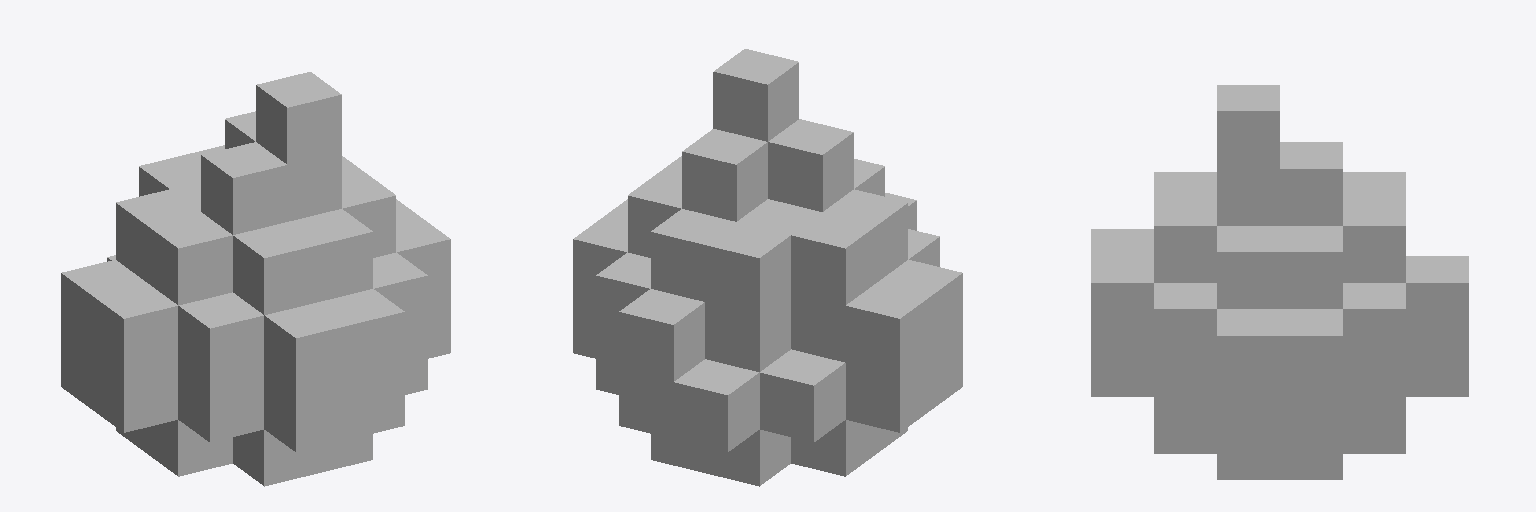
Rendered from TomatoFixed.obj.
The picture shows the model from 3 angles: view 1: azimuth 30°, elevation 25°; view 2: azimuth 150°, elevation 25°; view 3: azimuth 270°, elevation 25°; orthographic projection.
Parts seen in each view (by area): view 1: tomate; view 2: tomate; view 3: tomate.
Part boxes in pixels (bbox=[...]): tomate: bbox=[61, 72, 450, 486]; tomate: bbox=[573, 49, 962, 486]; tomate: bbox=[1091, 85, 1468, 479].
Bounding box in the file's own units: 6 × 6 × 6.